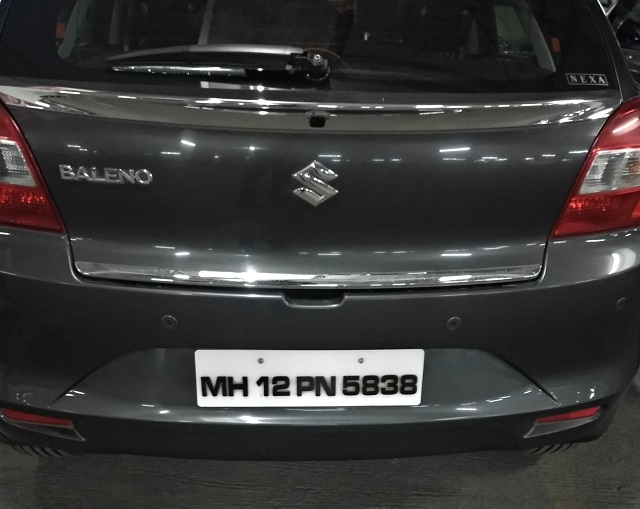licenseplate: (194, 346, 429, 409)
